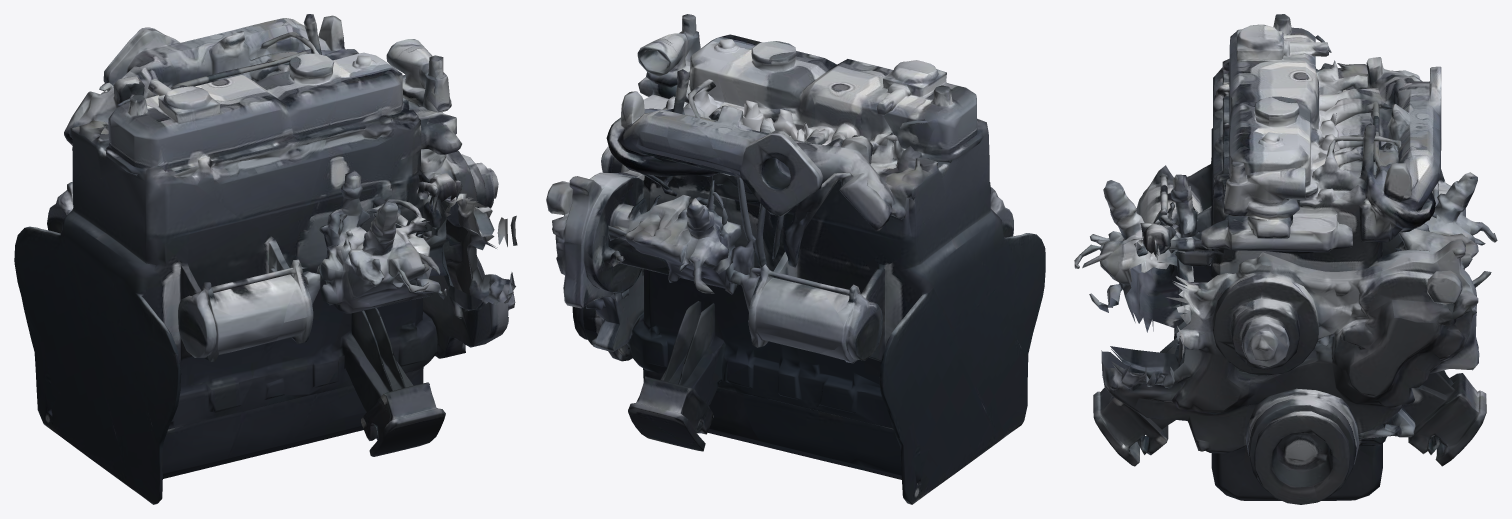
Rendered from engine_jeep_40.glb.
3 views of the same model, side by side, from view 1: azimuth 30°, elevation 25°; view 2: azimuth 150°, elevation 25°; view 3: azimuth 270°, elevation 25° (orthographic).
Parts seen in each view (by area): view 1: engine_jeep_40; view 2: engine_jeep_40; view 3: engine_jeep_40.
Boxes of the visible parts, x1,y1,x2,y2 form: engine_jeep_40: (14, 14, 517, 504); engine_jeep_40: (546, 14, 1045, 504); engine_jeep_40: (1074, 14, 1497, 504).
Bounding box in the file's own units: 0.66 × 0.6067 × 0.6336.
Materials: 1 (1 with a texture image).
